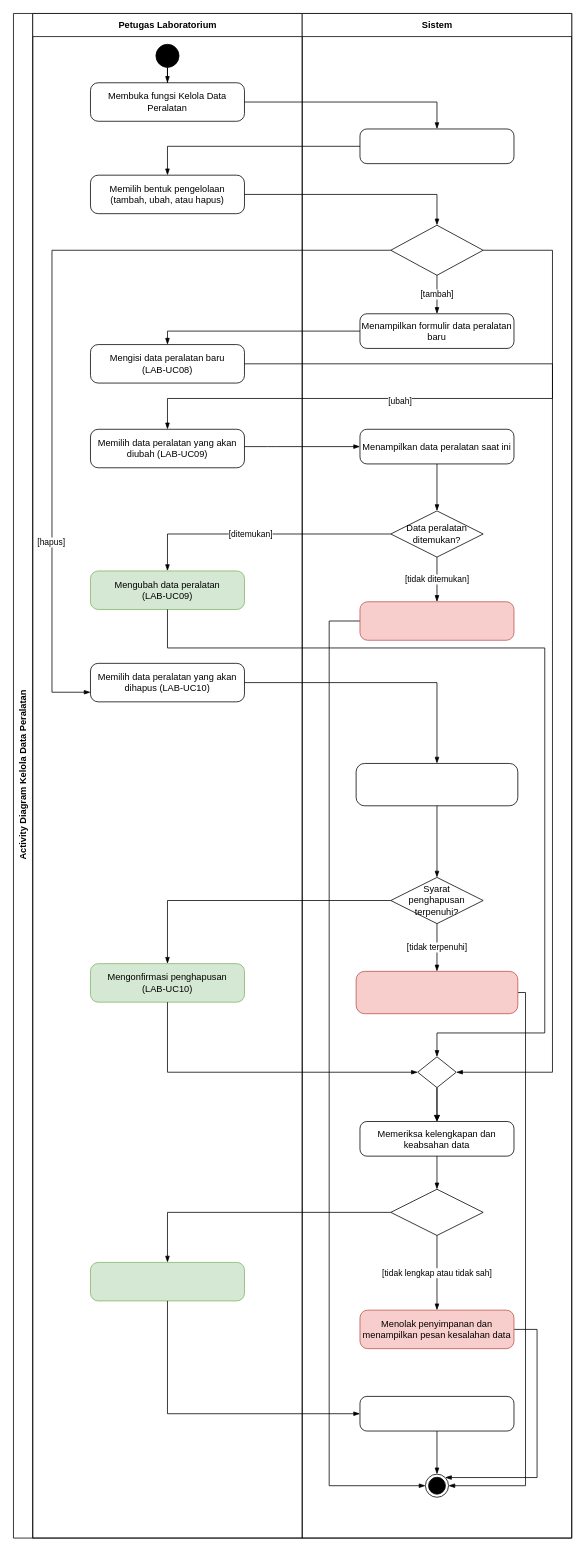
This 585x1552 diagram has some shape labels left out. The centre of each missing label's shape, as x and y in pixels:
Bentuk pengelolaan yang dipilih?: the point at 436,249
Data lengkap dan sah?: the point at 436,1211
Memeriksa peralatan tidak sedang dipinjam dan tidak memiliki pengajuan aktif: the point at 436,784
Memperbaiki kesalahan: the point at 167,1281
Menampilkan daftar data peralatan: the point at 436,146
Menampilkan pesan data peralatan tidak ditemukan: the point at 436,620
Menolak penghapusan dan menampilkan pesan peralatan masih terpakai: the point at 436,992
Menyimpan perubahan dan menampilkan konfirmasi: the point at 436,1413
